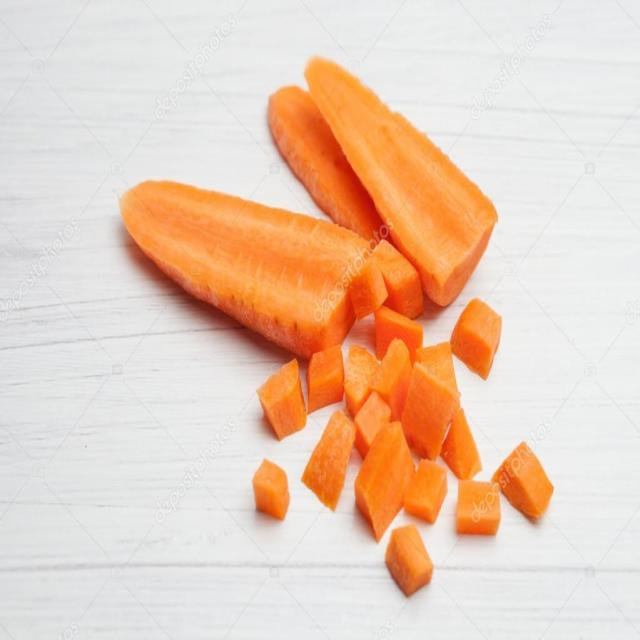carrot: (305, 57, 499, 305), (119, 181, 368, 358), (355, 421, 416, 542), (402, 362, 460, 460), (302, 411, 356, 511), (257, 358, 307, 440), (307, 345, 345, 413)
